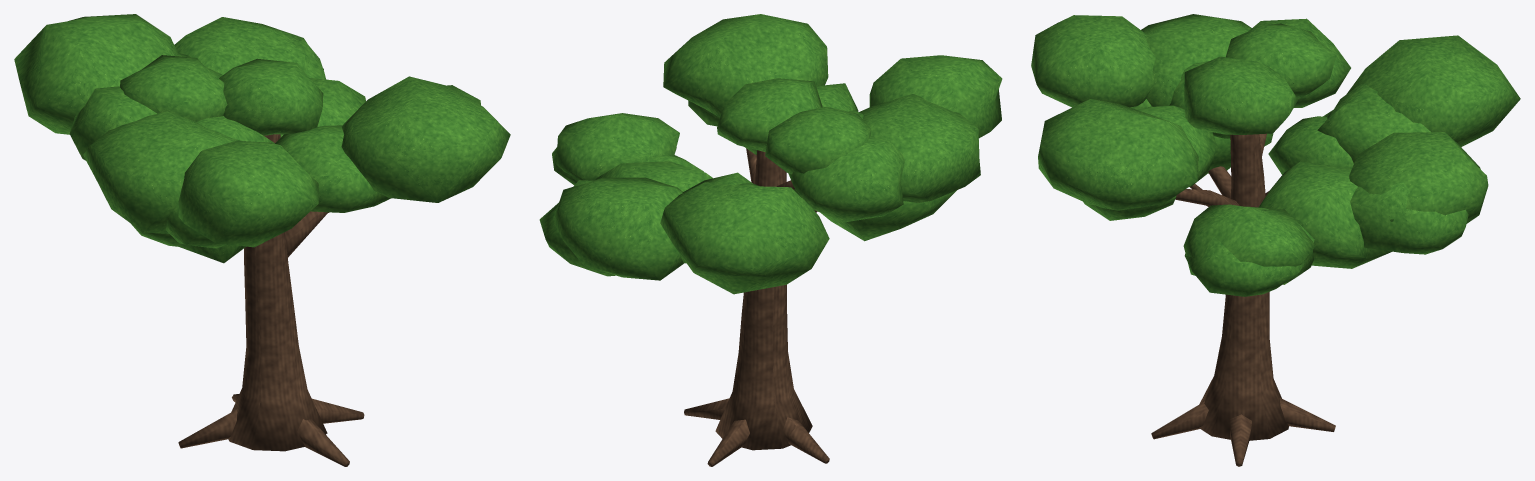
Rendered from Tree_Big.fbx.
3 views of the same model, side by side, from view 1: azimuth 30°, elevation 25°; view 2: azimuth 150°, elevation 25°; view 3: azimuth 270°, elevation 25° (orthographic). The views are drawn at different scales.
Parts seen in each view (by area): view 1: Tree_Big.001; view 2: Tree_Big.001; view 3: Tree_Big.001.
Part boxes in pixels (box(x1,y1,x2,y2)): Tree_Big.001: box(14, 14, 510, 466); Tree_Big.001: box(539, 14, 1002, 466); Tree_Big.001: box(1031, 14, 1520, 466).
Bounding box in the file's own units: 7.67 × 6.79 × 8.39.
